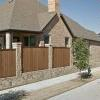Chimney: (44, 0, 62, 13)
